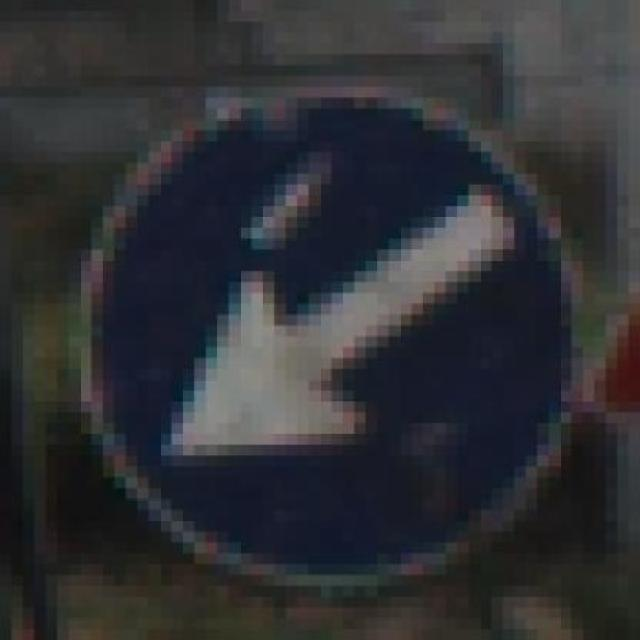Keep-Left: (69, 54, 606, 608)
